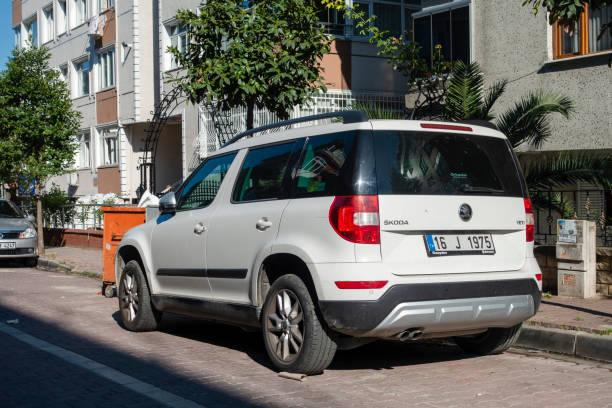skoda: (452, 201, 479, 227)
